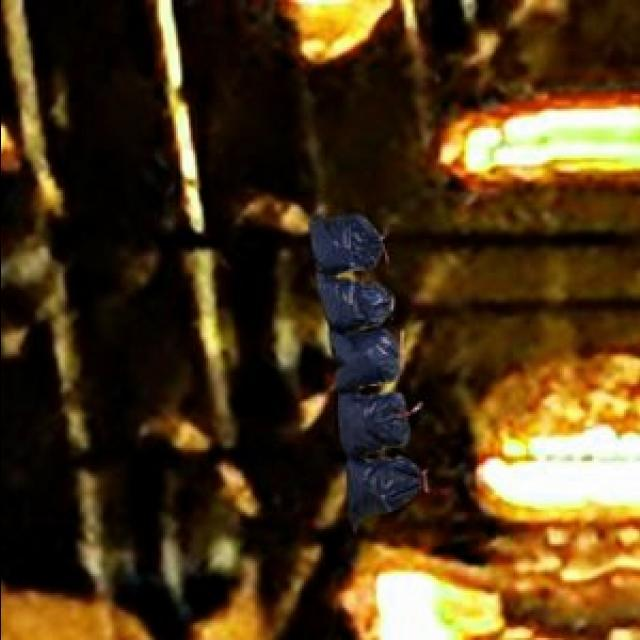Garbage_Bag: (306, 212, 421, 524)
